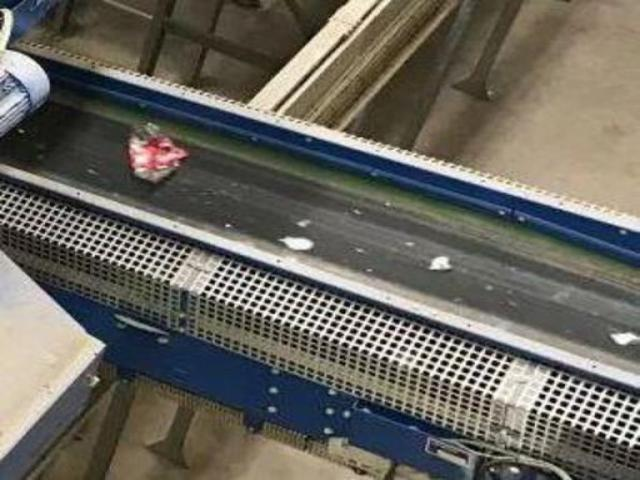conveyor: (2, 41, 640, 440)
